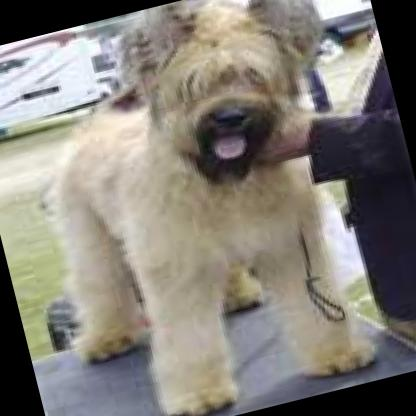briard: (0, 0, 406, 416)
